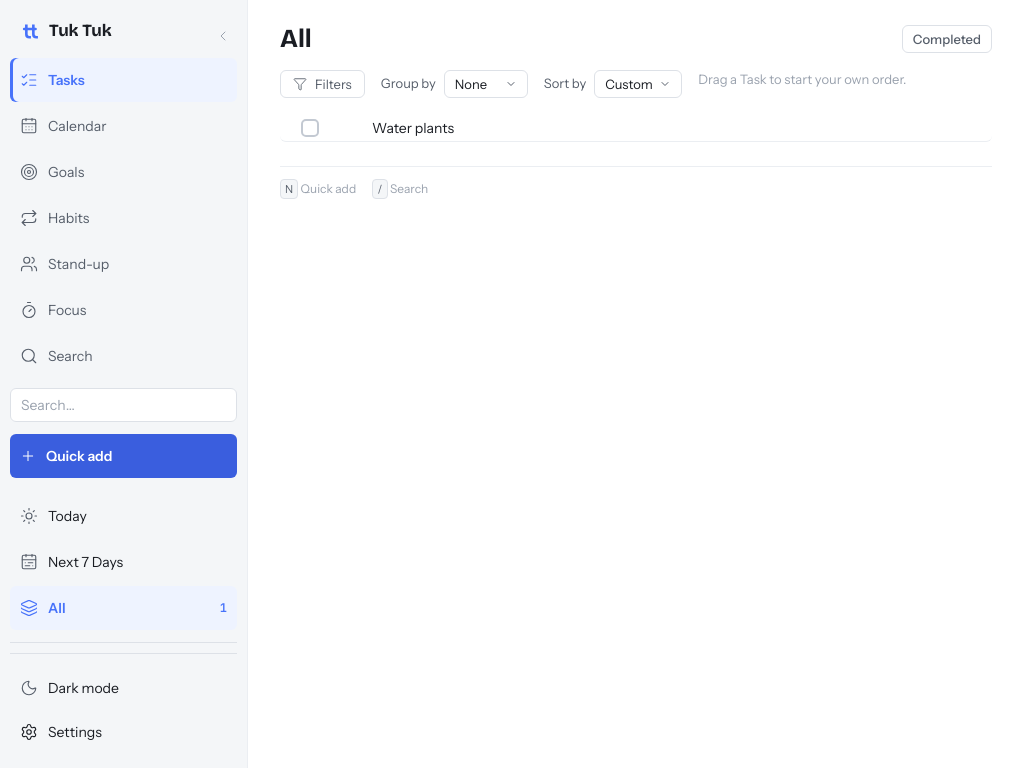
Test: App › holds a completion pending until the undo toast is dismissed, and undo cancels it
Click the checkbox named "Complete Water plants".
click(310, 128)  # box [301,119,319,137]
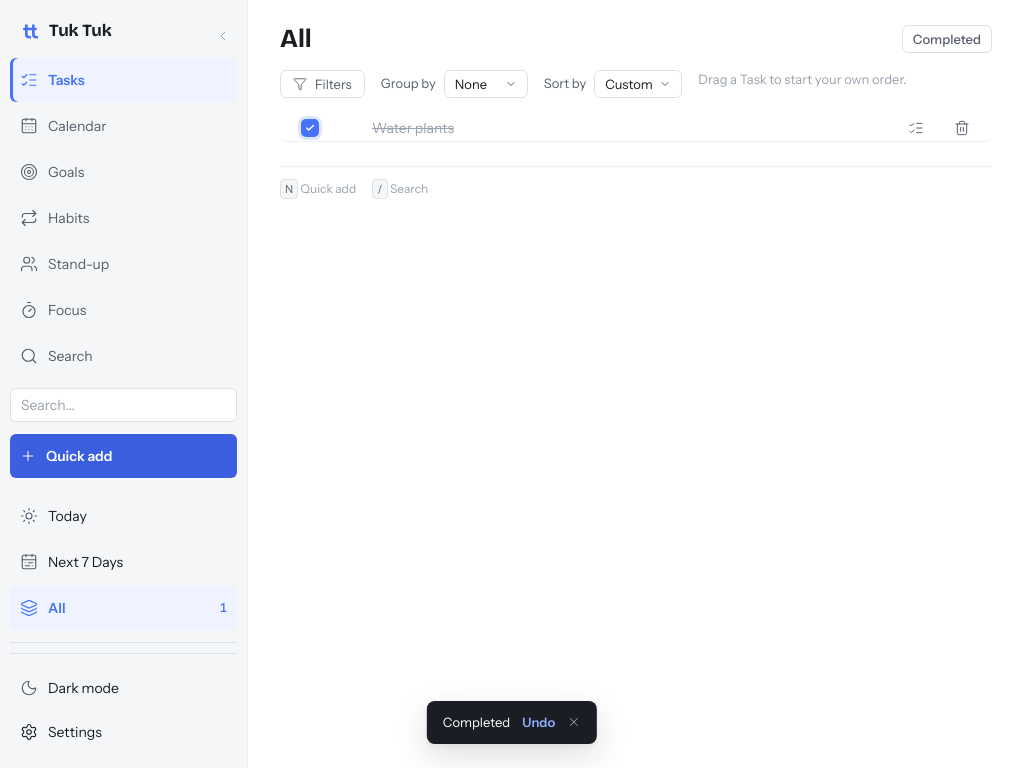
expect the message shows "Completed": met, box [443,714,510,730]
Click the button "Undo".
click(539, 722)  # box [522,714,555,730]
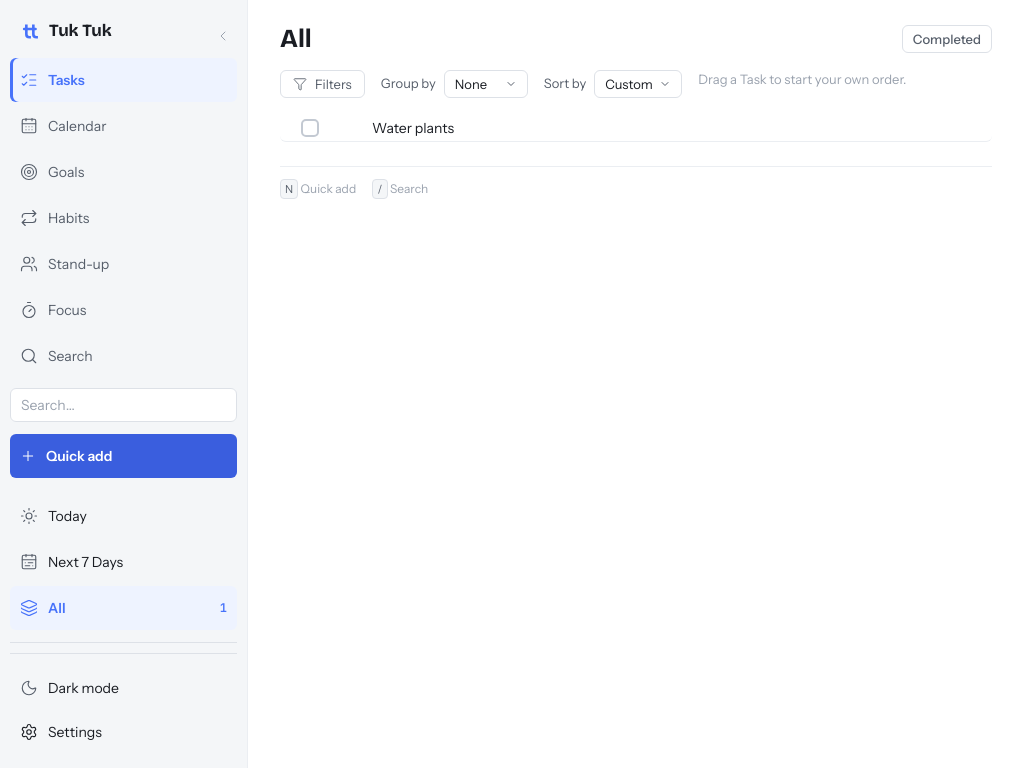
expect the checkbox named "Complete Water plants" is not checked: met, box [301,119,319,137]
expect the message "Completed Undo" is gone: met
